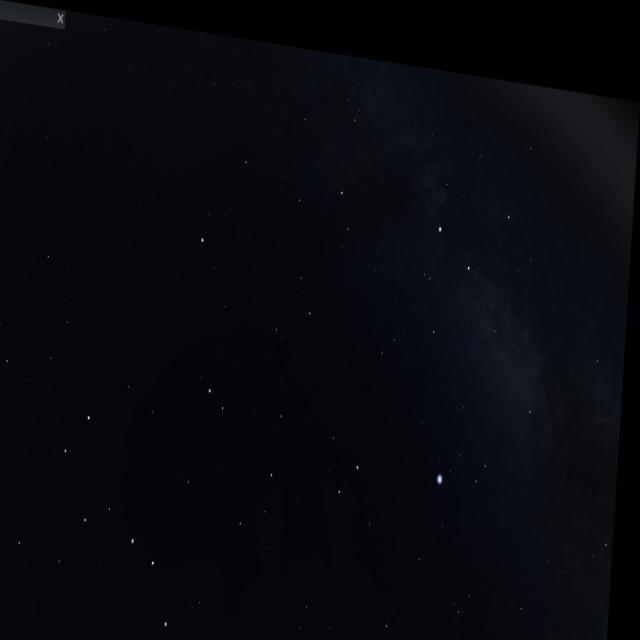cygnus: (412, 171, 560, 420)
lyra: (440, 420, 500, 482)
